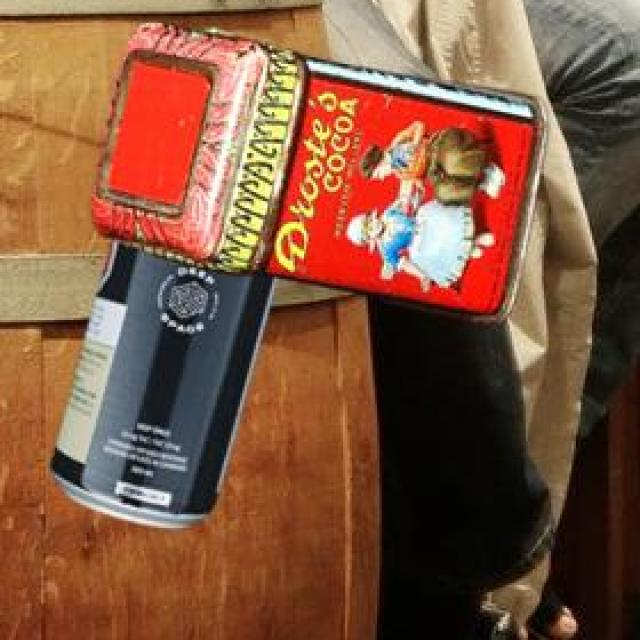logam: (90, 19, 545, 319), (47, 237, 273, 525)
